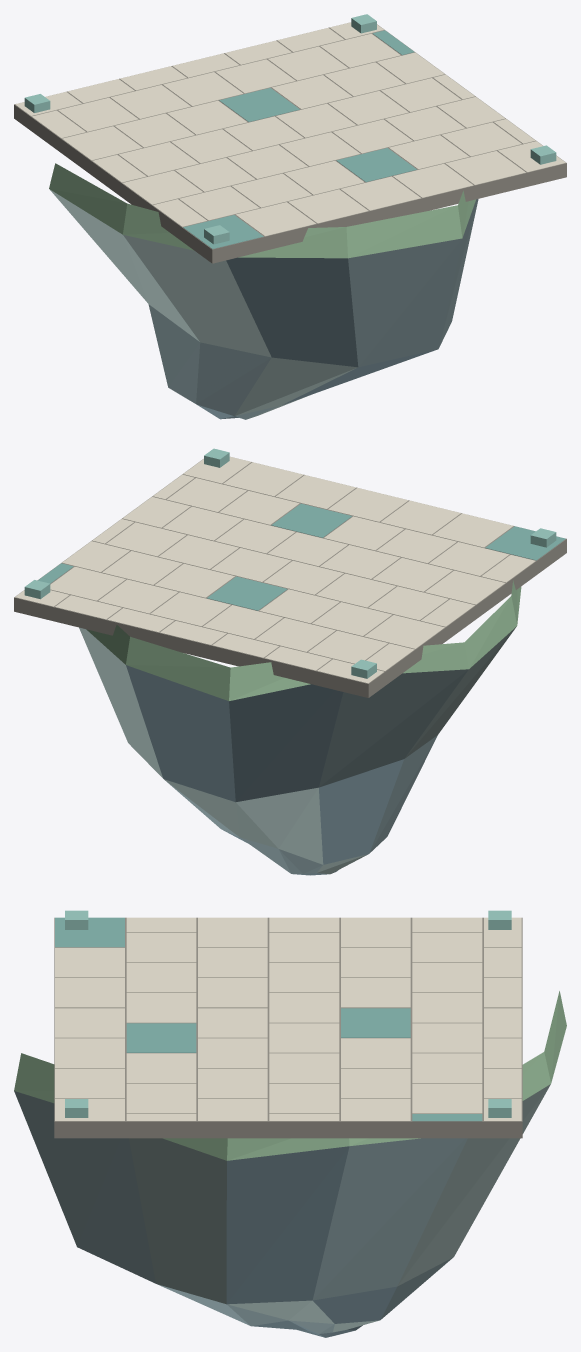
The model's file is FloatingIsland20.glb.
3 views of the same model, one above another, from view 1: azimuth 30°, elevation 25°; view 2: azimuth 150°, elevation 25°; view 3: azimuth 270°, elevation 25° (orthographic). The views are drawn at different scales.
Parts seen in each view (by area): view 1: FloatingIsland20; view 2: FloatingIsland20; view 3: FloatingIsland20.
Boxes of the visible parts, bbox=[...] form: FloatingIsland20: bbox=[14, 14, 566, 419]; FloatingIsland20: bbox=[14, 448, 566, 875]; FloatingIsland20: bbox=[14, 910, 566, 1337].
Size of the model in its own units: 7.76 by 5.66 by 8.12.
